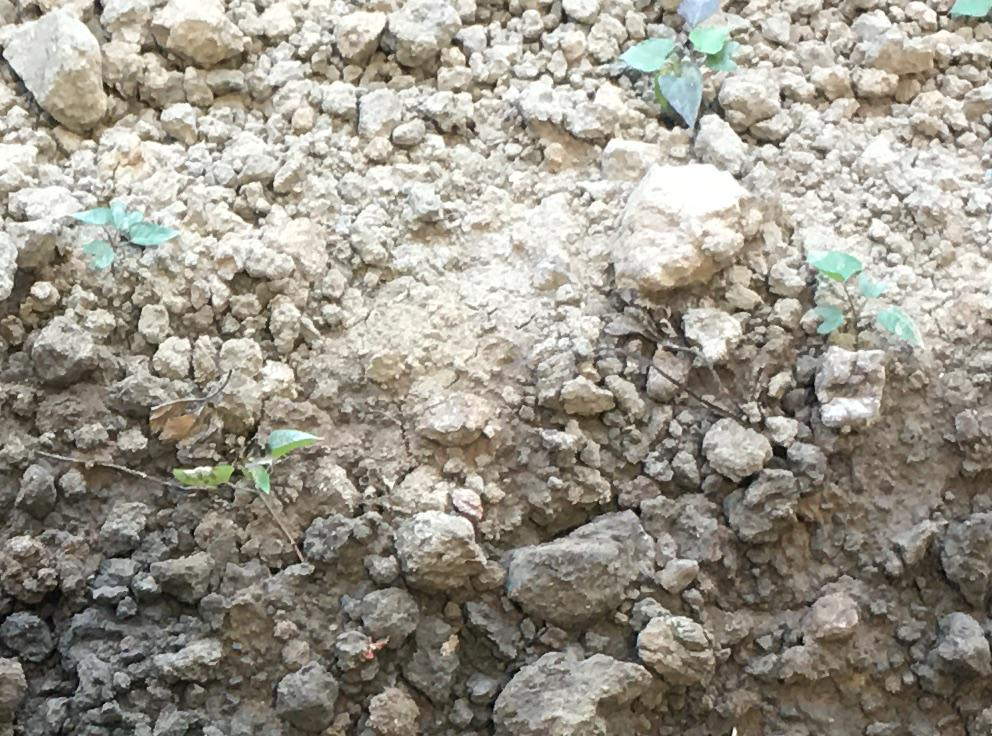block: (610, 150, 754, 298), (499, 512, 660, 627), (477, 646, 654, 736), (1, 16, 113, 135)
